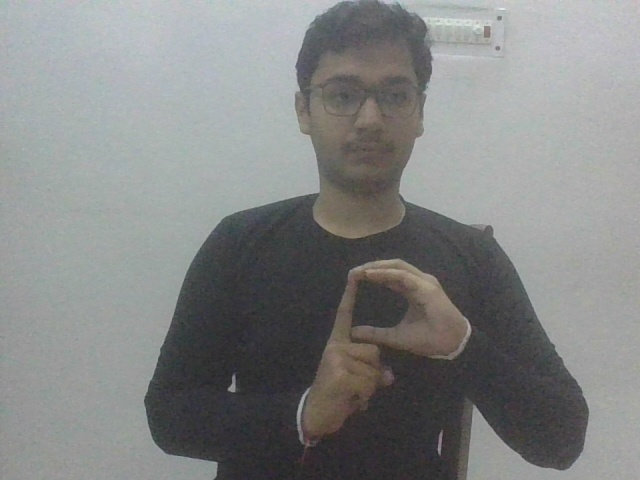D: (297, 255, 470, 449)
